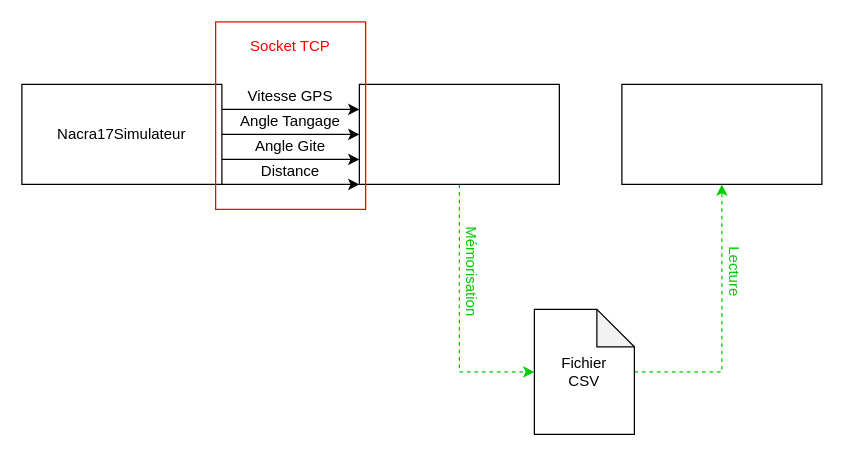
This 844x456 diagram has some shape labels left out. The shapes that lost their labels are listed below. From the top down, each one's centre as x and y in pixels, then its label:
At (x=458, y=133): "Nacra17Dashboard".
At (x=721, y=133): "Nacra17Debriefer".
